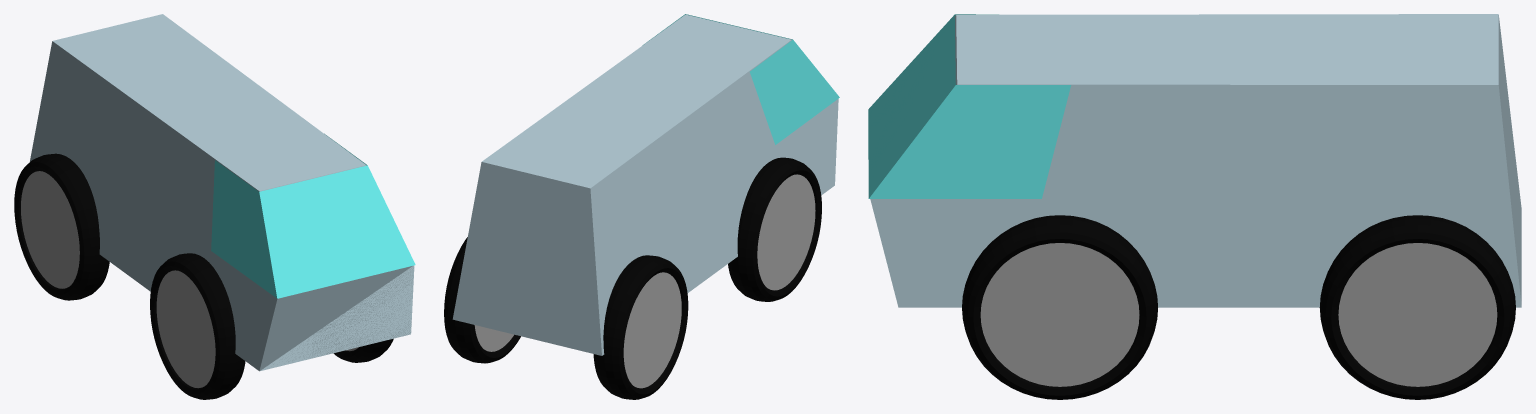
The model's file is roller.glb.
The picture shows the model from 3 angles, left to right: view 1: azimuth 30°, elevation 25°; view 2: azimuth 150°, elevation 25°; view 3: azimuth 270°, elevation 25°; orthographic projection. The views are drawn at different scales.
Visible parts, largest first — view 1: Cube, Cube.001, Torus.003, Torus.002, Cylinder.002, Cylinder.003, Torus; view 2: Cube, Torus.003, Cube.001, Torus.002, Cylinder.003, Cylinder.002, Torus.001, Cylinder.001; view 3: Cube, Cube.001, Cylinder, Cylinder.001, Torus.001, Torus.
Part boxes in pixels (x1=…): Cube: x1=30, y1=14, x2=414, y2=371; Cube.001: x1=211, y1=133, x2=415, y2=298; Torus.003: x1=14, y1=153, x2=109, y2=300; Torus.002: x1=150, y1=253, x2=245, y2=399; Cylinder.002: x1=156, y1=270, x2=215, y2=388; Cylinder.003: x1=21, y1=171, x2=79, y2=288; Torus: x1=333, y1=338, x2=393, y2=362; Cube: x1=452, y1=14, x2=838, y2=355; Torus.003: x1=593, y1=255, x2=688, y2=399; Cube.001: x1=642, y1=14, x2=839, y2=144; Torus.002: x1=728, y1=157, x2=821, y2=301; Cylinder.003: x1=623, y1=272, x2=681, y2=388; Cylinder.002: x1=757, y1=174, x2=815, y2=290; Torus.001: x1=444, y1=237, x2=520, y2=363; Cylinder.001: x1=474, y1=325, x2=513, y2=351; Cube: x1=870, y1=14, x2=1521, y2=307; Cube.001: x1=868, y1=14, x2=1071, y2=198; Cylinder: x1=980, y1=243, x2=1139, y2=386; Cylinder.001: x1=1338, y1=243, x2=1497, y2=386; Torus.001: x1=1319, y1=215, x2=1515, y2=399; Torus: x1=962, y1=215, x2=1157, y2=399.
Bounding box in the file's own units: 2.4 × 2.85 × 5.66.
